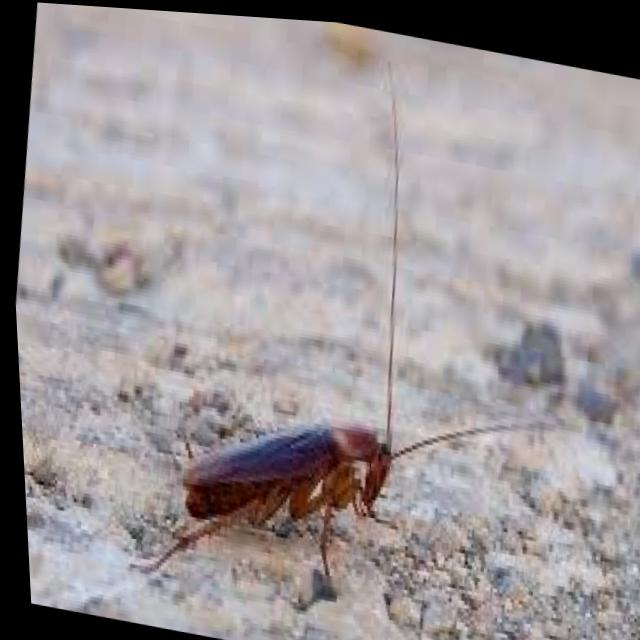Cockroach: (87, 5, 632, 640)
